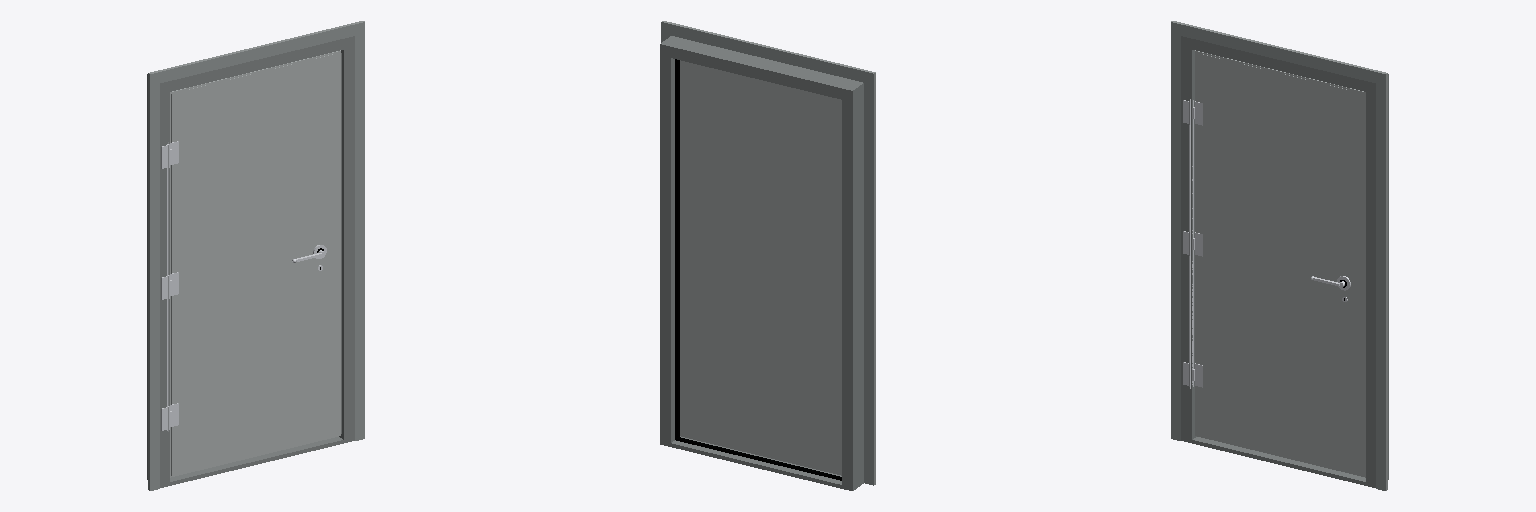
The robot description file, URDF, robot "standalone_single_leaf_door":
<robot name="standalone_single_leaf_door">
  <material name="smooth_light_gray_painted_slab">
    <color rgba="0.72 0.74 0.74 1" />
    </material>
  <material name="slightly_darker_gray_metal">
    <color rgba="0.55 0.57 0.57 1" />
    </material>
  <material name="soft_gray_trim">
    <color rgba="0.62 0.64 0.64 1" />
    </material>
  <material name="black_shadow_gap">
    <color rgba="0.015 0.016 0.017 1" />
    </material>
  <material name="polished_chrome">
    <color rgba="0.86 0.87 0.89 1" />
    </material>
  <material name="dark_keyway">
    <color rgba="0.02 0.02 0.022 1" />
    </material>
  <link name="fixed_frame">
    <visual name="left_jamb">
      <origin xyz="-0.5 0.06 1.0625" rpy="0 0 0" />
      <geometry>
        <box size="0.06 0.12 2.085" />
        </geometry>
      <material name="slightly_darker_gray_metal">
        <color rgba="0.55 0.57 0.57 1" />
        </material>
      </visual>
    <visual name="right_jamb">
      <origin xyz="0.5 0.06 1.0625" rpy="0 0 0" />
      <geometry>
        <box size="0.06 0.12 2.085" />
        </geometry>
      <material name="slightly_darker_gray_metal">
        <color rgba="0.55 0.57 0.57 1" />
        </material>
      </visual>
    <visual name="header">
      <origin xyz="0 0.06 2.075" rpy="0 0 0" />
      <geometry>
        <box size="1.06 0.12 0.06" />
        </geometry>
      <material name="slightly_darker_gray_metal">
        <color rgba="0.55 0.57 0.57 1" />
        </material>
      </visual>
    <visual name="threshold">
      <origin xyz="0 0.06 0.01" rpy="0 0 0" />
      <geometry>
        <box size="1.06 0.12 0.02" />
        </geometry>
      <material name="slightly_darker_gray_metal">
        <color rgba="0.55 0.57 0.57 1" />
        </material>
      </visual>
    <visual name="left_recessed_stop">
      <origin xyz="-0.461 0.071 1.035" rpy="0 0 0" />
      <geometry>
        <box size="0.018 0.018 2" />
        </geometry>
      <material name="black_shadow_gap">
        <color rgba="0.015 0.016 0.017 1" />
        </material>
      </visual>
    <visual name="right_recessed_stop">
      <origin xyz="0.461 0.071 1.035" rpy="0 0 0" />
      <geometry>
        <box size="0.018 0.018 2" />
        </geometry>
      <material name="black_shadow_gap">
        <color rgba="0.015 0.016 0.017 1" />
        </material>
      </visual>
    <visual name="header_recessed_stop">
      <origin xyz="0 0.071 2.044" rpy="0 0 0" />
      <geometry>
        <box size="0.94 0.018 0.018" />
        </geometry>
      <material name="black_shadow_gap">
        <color rgba="0.015 0.016 0.017 1" />
        </material>
      </visual>
    <visual name="sill_recessed_stop">
      <origin xyz="0 0.071 0.026" rpy="0 0 0" />
      <geometry>
        <box size="0.94 0.018 0.012" />
        </geometry>
      <material name="black_shadow_gap">
        <color rgba="0.015 0.016 0.017 1" />
        </material>
      </visual>
    <visual name="left_casing">
      <geometry>
        <mesh filename="assets/meshes/left_mitered_casing.obj" />
        </geometry>
      <material name="soft_gray_trim">
        <color rgba="0.62 0.64 0.64 1" />
        </material>
      </visual>
    <visual name="right_casing">
      <geometry>
        <mesh filename="assets/meshes/right_mitered_casing.obj" />
        </geometry>
      <material name="soft_gray_trim">
        <color rgba="0.62 0.64 0.64 1" />
        </material>
      </visual>
    <visual name="header_casing">
      <geometry>
        <mesh filename="assets/meshes/header_mitered_casing.obj" />
        </geometry>
      <material name="soft_gray_trim">
        <color rgba="0.62 0.64 0.64 1" />
        </material>
      </visual>
    <collision name="left_jamb">
      <origin xyz="-0.5 0.06 1.0625" rpy="0 0 0" />
      <geometry>
        <box size="0.06 0.12 2.085" />
        </geometry>
      </collision>
    <collision name="right_jamb">
      <origin xyz="0.5 0.06 1.0625" rpy="0 0 0" />
      <geometry>
        <box size="0.06 0.12 2.085" />
        </geometry>
      </collision>
    <collision name="header">
      <origin xyz="0 0.06 2.075" rpy="0 0 0" />
      <geometry>
        <box size="1.06 0.12 0.06" />
        </geometry>
      </collision>
    <collision name="threshold">
      <origin xyz="0 0.06 0.01" rpy="0 0 0" />
      <geometry>
        <box size="1.06 0.12 0.02" />
        </geometry>
      </collision>
    <collision name="left_recessed_stop">
      <origin xyz="-0.461 0.071 1.035" rpy="0 0 0" />
      <geometry>
        <box size="0.018 0.018 2" />
        </geometry>
      </collision>
    <collision name="right_recessed_stop">
      <origin xyz="0.461 0.071 1.035" rpy="0 0 0" />
      <geometry>
        <box size="0.018 0.018 2" />
        </geometry>
      </collision>
    <collision name="header_recessed_stop">
      <origin xyz="0 0.071 2.044" rpy="0 0 0" />
      <geometry>
        <box size="0.94 0.018 0.018" />
        </geometry>
      </collision>
    <collision name="sill_recessed_stop">
      <origin xyz="0 0.071 0.026" rpy="0 0 0" />
      <geometry>
        <box size="0.94 0.018 0.012" />
        </geometry>
      </collision>
    <collision name="left_casing">
      <geometry>
        <mesh filename="assets/meshes/left_mitered_casing.obj" />
        </geometry>
      </collision>
    <collision name="right_casing">
      <geometry>
        <mesh filename="assets/meshes/right_mitered_casing.obj" />
        </geometry>
      </collision>
    <collision name="header_casing">
      <geometry>
        <mesh filename="assets/meshes/header_mitered_casing.obj" />
        </geometry>
      </collision>
    </link>
  <link name="door_panel">
    <visual name="door_slab">
      <origin xyz="0.486 0.036 1.035" rpy="0 0 0" />
      <geometry>
        <box size="0.932 0.042 2" />
        </geometry>
      <material name="smooth_light_gray_painted_slab">
        <color rgba="0.72 0.74 0.74 1" />
        </material>
      </visual>
    <visual name="front_smooth_skin">
      <origin xyz="0.486 0.0144 1.035" rpy="0 0 0" />
      <geometry>
        <box size="0.914 0.0012 1.982" />
        </geometry>
      <material name="smooth_light_gray_painted_slab">
        <color rgba="0.72 0.74 0.74 1" />
        </material>
      </visual>
    <visual name="latch_edge_bevel">
      <origin xyz="0.95 0.014 1.035" rpy="0 0 0" />
      <geometry>
        <box size="0.004 0.002 1.98" />
        </geometry>
      <material name="slightly_darker_gray_metal">
        <color rgba="0.55 0.57 0.57 1" />
        </material>
      </visual>
    <collision name="door_slab">
      <origin xyz="0.486 0.036 1.035" rpy="0 0 0" />
      <geometry>
        <box size="0.932 0.042 2" />
        </geometry>
      </collision>
    <collision name="front_smooth_skin">
      <origin xyz="0.486 0.0144 1.035" rpy="0 0 0" />
      <geometry>
        <box size="0.914 0.0012 1.982" />
        </geometry>
      </collision>
    <collision name="latch_edge_bevel">
      <origin xyz="0.95 0.014 1.035" rpy="0 0 0" />
      <geometry>
        <box size="0.004 0.002 1.98" />
        </geometry>
      </collision>
    </link>
  <link name="hinge_leaf_frame">
    <visual name="frame_leaf_0">
      <origin xyz="-0.502 -0.002 0.355" rpy="0 0 0" />
      <geometry>
        <box size="0.038 0.004 0.115" />
        </geometry>
      <material name="polished_chrome">
        <color rgba="0.86 0.87 0.89 1" />
        </material>
      </visual>
    <visual name="frame_leaf_1">
      <origin xyz="-0.502 -0.002 1.035" rpy="0 0 0" />
      <geometry>
        <box size="0.038 0.004 0.115" />
        </geometry>
      <material name="polished_chrome">
        <color rgba="0.86 0.87 0.89 1" />
        </material>
      </visual>
    <visual name="frame_leaf_2">
      <origin xyz="-0.502 -0.002 1.715" rpy="0 0 0" />
      <geometry>
        <box size="0.038 0.004 0.115" />
        </geometry>
      <material name="polished_chrome">
        <color rgba="0.86 0.87 0.89 1" />
        </material>
      </visual>
    <visual name="frame_leaf_spine">
      <origin xyz="-0.486 -0.002 1.035" rpy="0 0 0" />
      <geometry>
        <box size="0.006 0.004 1.485" />
        </geometry>
      <material name="polished_chrome">
        <color rgba="0.86 0.87 0.89 1" />
        </material>
      </visual>
    <collision name="frame_leaf_0">
      <origin xyz="-0.502 -0.002 0.355" rpy="0 0 0" />
      <geometry>
        <box size="0.038 0.004 0.115" />
        </geometry>
      </collision>
    <collision name="frame_leaf_1">
      <origin xyz="-0.502 -0.002 1.035" rpy="0 0 0" />
      <geometry>
        <box size="0.038 0.004 0.115" />
        </geometry>
      </collision>
    <collision name="frame_leaf_2">
      <origin xyz="-0.502 -0.002 1.715" rpy="0 0 0" />
      <geometry>
        <box size="0.038 0.004 0.115" />
        </geometry>
      </collision>
    <collision name="frame_leaf_spine">
      <origin xyz="-0.486 -0.002 1.035" rpy="0 0 0" />
      <geometry>
        <box size="0.006 0.004 1.485" />
        </geometry>
      </collision>
    </link>
  <link name="hinge_pin">
    <visual name="pin_spine">
      <origin xyz="-0.481 -0.003 1.035" rpy="0 0 0" />
      <geometry>
        <cylinder radius="0.003" length="1.505" />
        </geometry>
      <material name="polished_chrome">
        <color rgba="0.86 0.87 0.89 1" />
        </material>
      </visual>
    <visual name="pin_barrel_0">
      <origin xyz="-0.481 -0.003 0.355" rpy="0 0 0" />
      <geometry>
        <cylinder radius="0.004" length="0.125" />
        </geometry>
      <material name="polished_chrome">
        <color rgba="0.86 0.87 0.89 1" />
        </material>
      </visual>
    <visual name="pin_barrel_1">
      <origin xyz="-0.481 -0.003 1.035" rpy="0 0 0" />
      <geometry>
        <cylinder radius="0.004" length="0.125" />
        </geometry>
      <material name="polished_chrome">
        <color rgba="0.86 0.87 0.89 1" />
        </material>
      </visual>
    <visual name="pin_barrel_2">
      <origin xyz="-0.481 -0.003 1.715" rpy="0 0 0" />
      <geometry>
        <cylinder radius="0.004" length="0.125" />
        </geometry>
      <material name="polished_chrome">
        <color rgba="0.86 0.87 0.89 1" />
        </material>
      </visual>
    <collision name="pin_spine">
      <origin xyz="-0.481 -0.003 1.035" rpy="0 0 0" />
      <geometry>
        <cylinder radius="0.003" length="1.505" />
        </geometry>
      </collision>
    <collision name="pin_barrel_0">
      <origin xyz="-0.481 -0.003 0.355" rpy="0 0 0" />
      <geometry>
        <cylinder radius="0.004" length="0.125" />
        </geometry>
      </collision>
    <collision name="pin_barrel_1">
      <origin xyz="-0.481 -0.003 1.035" rpy="0 0 0" />
      <geometry>
        <cylinder radius="0.004" length="0.125" />
        </geometry>
      </collision>
    <collision name="pin_barrel_2">
      <origin xyz="-0.481 -0.003 1.715" rpy="0 0 0" />
      <geometry>
        <cylinder radius="0.004" length="0.125" />
        </geometry>
      </collision>
    </link>
  <link name="hinge_leaf_panel">
    <visual name="panel_leaf_0">
      <origin xyz="0.043 0.013 0.355" rpy="0 0 0" />
      <geometry>
        <box size="0.046 0.004 0.115" />
        </geometry>
      <material name="polished_chrome">
        <color rgba="0.86 0.87 0.89 1" />
        </material>
      </visual>
    <visual name="panel_leaf_return_0">
      <origin xyz="0.018 0.007 0.355" rpy="0 0 0" />
      <geometry>
        <box size="0.012 0.014 0.055" />
        </geometry>
      <material name="polished_chrome">
        <color rgba="0.86 0.87 0.89 1" />
        </material>
      </visual>
    <visual name="panel_leaf_1">
      <origin xyz="0.043 0.013 1.035" rpy="0 0 0" />
      <geometry>
        <box size="0.046 0.004 0.115" />
        </geometry>
      <material name="polished_chrome">
        <color rgba="0.86 0.87 0.89 1" />
        </material>
      </visual>
    <visual name="panel_leaf_return_1">
      <origin xyz="0.018 0.007 1.035" rpy="0 0 0" />
      <geometry>
        <box size="0.012 0.014 0.055" />
        </geometry>
      <material name="polished_chrome">
        <color rgba="0.86 0.87 0.89 1" />
        </material>
      </visual>
    <visual name="panel_leaf_2">
      <origin xyz="0.043 0.013 1.715" rpy="0 0 0" />
      <geometry>
        <box size="0.046 0.004 0.115" />
        </geometry>
      <material name="polished_chrome">
        <color rgba="0.86 0.87 0.89 1" />
        </material>
      </visual>
    <visual name="panel_leaf_return_2">
      <origin xyz="0.018 0.007 1.715" rpy="0 0 0" />
      <geometry>
        <box size="0.012 0.014 0.055" />
        </geometry>
      <material name="polished_chrome">
        <color rgba="0.86 0.87 0.89 1" />
        </material>
      </visual>
    <visual name="panel_leaf_spine">
      <origin xyz="0.013 0.007 1.035" rpy="0 0 0" />
      <geometry>
        <box size="0.004 0.014 1.485" />
        </geometry>
      <material name="polished_chrome">
        <color rgba="0.86 0.87 0.89 1" />
        </material>
      </visual>
    <collision name="panel_leaf_0">
      <origin xyz="0.043 0.013 0.355" rpy="0 0 0" />
      <geometry>
        <box size="0.046 0.004 0.115" />
        </geometry>
      </collision>
    <collision name="panel_leaf_return_0">
      <origin xyz="0.018 0.007 0.355" rpy="0 0 0" />
      <geometry>
        <box size="0.012 0.014 0.055" />
        </geometry>
      </collision>
    <collision name="panel_leaf_1">
      <origin xyz="0.043 0.013 1.035" rpy="0 0 0" />
      <geometry>
        <box size="0.046 0.004 0.115" />
        </geometry>
      </collision>
    <collision name="panel_leaf_return_1">
      <origin xyz="0.018 0.007 1.035" rpy="0 0 0" />
      <geometry>
        <box size="0.012 0.014 0.055" />
        </geometry>
      </collision>
    <collision name="panel_leaf_2">
      <origin xyz="0.043 0.013 1.715" rpy="0 0 0" />
      <geometry>
        <box size="0.046 0.004 0.115" />
        </geometry>
      </collision>
    <collision name="panel_leaf_return_2">
      <origin xyz="0.018 0.007 1.715" rpy="0 0 0" />
      <geometry>
        <box size="0.012 0.014 0.055" />
        </geometry>
      </collision>
    <collision name="panel_leaf_spine">
      <origin xyz="0.013 0.007 1.035" rpy="0 0 0" />
      <geometry>
        <box size="0.004 0.014 1.485" />
        </geometry>
      </collision>
    </link>
  <link name="handle_back_plate">
    <visual name="round_rosette">
      <origin xyz="0.832 0.01 1.02" rpy="1.5708 0 0" />
      <geometry>
        <cylinder radius="0.036" length="0.01" />
        </geometry>
      <material name="polished_chrome">
        <color rgba="0.86 0.87 0.89 1" />
        </material>
      </visual>
    <visual name="rosette_shadow_ring">
      <origin xyz="0.832 0.004 1.02" rpy="1.5708 0 0" />
      <geometry>
        <cylinder radius="0.02" length="0.002" />
        </geometry>
      <material name="dark_keyway">
        <color rgba="0.02 0.02 0.022 1" />
        </material>
      </visual>
    <collision name="round_rosette">
      <origin xyz="0.832 0.01 1.02" rpy="1.5708 0 0" />
      <geometry>
        <cylinder radius="0.036" length="0.01" />
        </geometry>
      </collision>
    <collision name="rosette_shadow_ring">
      <origin xyz="0.832 0.004 1.02" rpy="1.5708 0 0" />
      <geometry>
        <cylinder radius="0.02" length="0.002" />
        </geometry>
      </collision>
    </link>
  <link name="条形把手">
    <visual name="lever_spindle">
      <origin xyz="0 -0.01 0" rpy="1.5708 0 0" />
      <geometry>
        <cylinder radius="0.012" length="0.02" />
        </geometry>
      <material name="polished_chrome">
        <color rgba="0.86 0.87 0.89 1" />
        </material>
      </visual>
    <visual name="lever_bar">
      <origin xyz="-0.08 -0.022 0" rpy="0 0 0" />
      <geometry>
        <box size="0.145 0.014 0.012" />
        </geometry>
      <material name="polished_chrome">
        <color rgba="0.86 0.87 0.89 1" />
        </material>
      </visual>
    <visual name="rounded_lever_tip">
      <origin xyz="-0.153 -0.022 0" rpy="0 0 0" />
      <geometry>
        <sphere radius="0.01" />
        </geometry>
      <material name="polished_chrome">
        <color rgba="0.86 0.87 0.89 1" />
        </material>
      </visual>
    <collision name="lever_spindle">
      <origin xyz="0 -0.01 0" rpy="1.5708 0 0" />
      <geometry>
        <cylinder radius="0.012" length="0.02" />
        </geometry>
      </collision>
    <collision name="lever_bar">
      <origin xyz="-0.08 -0.022 0" rpy="0 0 0" />
      <geometry>
        <box size="0.145 0.014 0.012" />
        </geometry>
      </collision>
    <collision name="rounded_lever_tip">
      <origin xyz="-0.153 -0.022 0" rpy="0 0 0" />
      <geometry>
        <sphere radius="0.01" />
        </geometry>
      </collision>
    </link>
  <link name="lock_cylinder">
    <visual name="lock_cylinder_face">
      <origin xyz="0.836 0.012 0.935" rpy="1.5708 0 0" />
      <geometry>
        <cylinder radius="0.014" length="0.006" />
        </geometry>
      <material name="polished_chrome">
        <color rgba="0.86 0.87 0.89 1" />
        </material>
      </visual>
    <visual name="keyhole_slot">
      <origin xyz="0.836 0.0085 0.935" rpy="0 0 0" />
      <geometry>
        <box size="0.005 0.001 0.015" />
        </geometry>
      <material name="dark_keyway">
        <color rgba="0.02 0.02 0.022 1" />
        </material>
      </visual>
    <collision name="lock_cylinder_face">
      <origin xyz="0.836 0.012 0.935" rpy="1.5708 0 0" />
      <geometry>
        <cylinder radius="0.014" length="0.006" />
        </geometry>
      </collision>
    <collision name="keyhole_slot">
      <origin xyz="0.836 0.0085 0.935" rpy="0 0 0" />
      <geometry>
        <box size="0.005 0.001 0.015" />
        </geometry>
      </collision>
    </link>
  <link name="latch_faceplate">
    <visual name="latch_detail">
      <origin xyz="0.9525 0.036 1.02" rpy="0 0 0" />
      <geometry>
        <box size="0.001 0.022 0.105" />
        </geometry>
      <material name="polished_chrome">
        <color rgba="0.86 0.87 0.89 1" />
        </material>
      </visual>
    <collision name="latch_detail">
      <origin xyz="0.9525 0.036 1.02" rpy="0 0 0" />
      <geometry>
        <box size="0.001 0.022 0.105" />
        </geometry>
      </collision>
    </link>
  <link name="strike_plate">
    <visual name="strike_plate">
      <origin xyz="0.4695 0.036 1.02" rpy="0 0 0" />
      <geometry>
        <box size="0.001 0.046 0.125" />
        </geometry>
      <material name="polished_chrome">
        <color rgba="0.86 0.87 0.89 1" />
        </material>
      </visual>
    <visual name="strike_pocket">
      <origin xyz="0.4688 0.036 1.02" rpy="0 0 0" />
      <geometry>
        <box size="0.0012 0.026 0.044" />
        </geometry>
      <material name="dark_keyway">
        <color rgba="0.02 0.02 0.022 1" />
        </material>
      </visual>
    <collision name="strike_plate">
      <origin xyz="0.4695 0.036 1.02" rpy="0 0 0" />
      <geometry>
        <box size="0.001 0.046 0.125" />
        </geometry>
      </collision>
    <collision name="strike_pocket">
      <origin xyz="0.4688 0.036 1.02" rpy="0 0 0" />
      <geometry>
        <box size="0.0012 0.026 0.044" />
        </geometry>
      </collision>
    </link>
  <joint name="door_hinge_joint" type="revolute">
    <origin xyz="-0.485 0 0" rpy="0 0 0" />
    <parent link="fixed_frame" />
    <child link="door_panel" />
    <axis xyz="0 0 -1" />
    <limit effort="60" velocity="1.2" lower="0" upper="1.8326" />
    </joint>
  <joint name="frame_to_hinge_leaf_frame" type="fixed">
    <parent link="fixed_frame" />
    <child link="hinge_leaf_frame" />
    </joint>
  <joint name="frame_to_hinge_pin" type="fixed">
    <parent link="fixed_frame" />
    <child link="hinge_pin" />
    </joint>
  <joint name="door_to_hinge_leaf_panel" type="fixed">
    <parent link="door_panel" />
    <child link="hinge_leaf_panel" />
    </joint>
  <joint name="door_to_handle_back_plate" type="fixed">
    <parent link="door_panel" />
    <child link="handle_back_plate" />
    </joint>
  <joint name="door_to_lock_cylinder" type="fixed">
    <parent link="door_panel" />
    <child link="lock_cylinder" />
    </joint>
  <joint name="door_to_latch_faceplate" type="fixed">
    <parent link="door_panel" />
    <child link="latch_faceplate" />
    </joint>
  <joint name="frame_to_strike_plate" type="fixed">
    <parent link="fixed_frame" />
    <child link="strike_plate" />
    </joint>
  <joint name="handle_actuation_joint" type="revolute">
    <origin xyz="0.832 0.005 1.02" rpy="0 0 0" />
    <parent link="handle_back_plate" />
    <child link="条形把手" />
    <axis xyz="0 -1 0" />
    <limit effort="1.2" velocity="3" lower="0" upper="0.610865" />
    </joint>
  </robot>

--- Facts derived from the render (not from the file) ---
The picture shows the robot from 3 angles, left to right: view 1: azimuth 30°, elevation 25°; view 2: azimuth 150°, elevation 25°; view 3: azimuth 330°, elevation 25°; orthographic projection.
Model standalone_single_leaf_door with 10 links and 9 joints (2 revolute, 7 fixed), rooted at fixed_frame, posed all joints at 0.
Links seen in each view (by area): view 1: door_panel, fixed_frame, hinge_leaf_frame, hinge_leaf_panel; view 2: door_panel, fixed_frame; view 3: door_panel, fixed_frame, hinge_leaf_panel, hinge_leaf_frame.
Link boxes in pixels (x1=…): door_panel: x1=170, y1=50, x2=341, y2=477; fixed_frame: x1=147, y1=21, x2=364, y2=490; hinge_leaf_frame: x1=161, y1=144, x2=167, y2=430; hinge_leaf_panel: x1=170, y1=141, x2=178, y2=426; door_panel: x1=680, y1=60, x2=841, y2=475; fixed_frame: x1=660, y1=21, x2=875, y2=490; door_panel: x1=1195, y1=50, x2=1365, y2=477; fixed_frame: x1=1171, y1=21, x2=1388, y2=490; hinge_leaf_panel: x1=1192, y1=100, x2=1202, y2=387; hinge_leaf_frame: x1=1183, y1=100, x2=1189, y2=385.
Size in the robot's own frame: 1.17 by 0.147 by 2.17 metres.
3 mesh visuals loaded from 3 distinct referenced files (3 OBJ).
